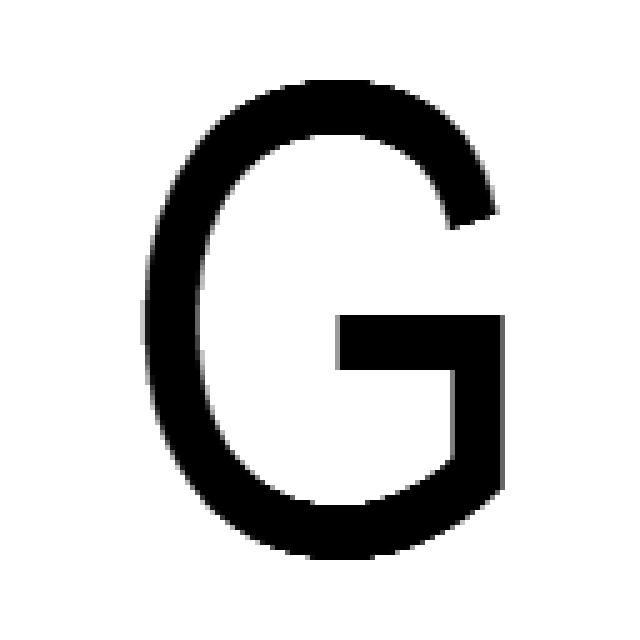G: (135, 70, 515, 560)
